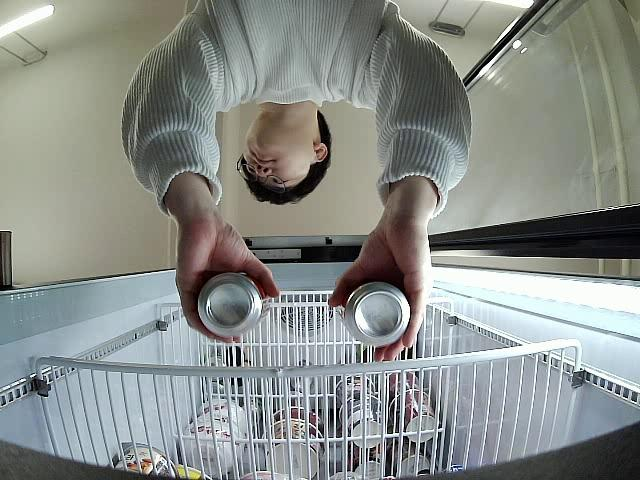00_hand: (326, 234, 430, 358), (174, 219, 279, 341)
11_cocaColaZero: (196, 273, 272, 336), (336, 284, 409, 347)
